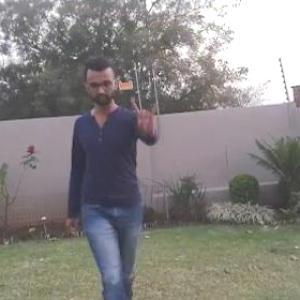takeoff-hand: (125, 93, 163, 138)
